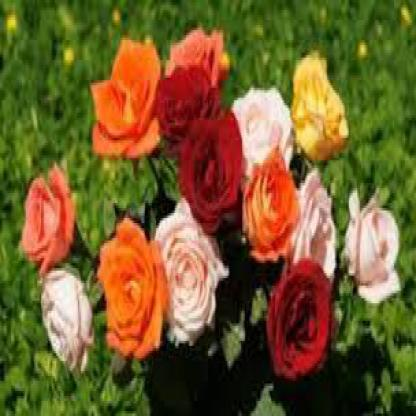Rose-Mawar: (90, 26, 344, 387), (20, 156, 96, 372), (342, 186, 401, 317)
